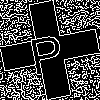P: (25, 25, 67, 76)
